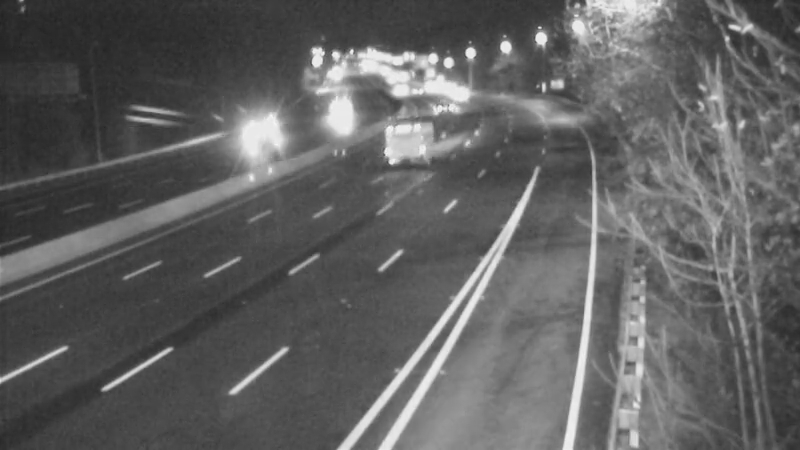vehicle: (377, 63, 427, 113), (430, 68, 480, 118), (410, 84, 460, 134), (372, 114, 422, 164), (219, 125, 269, 175), (252, 102, 302, 152), (307, 93, 357, 143)
